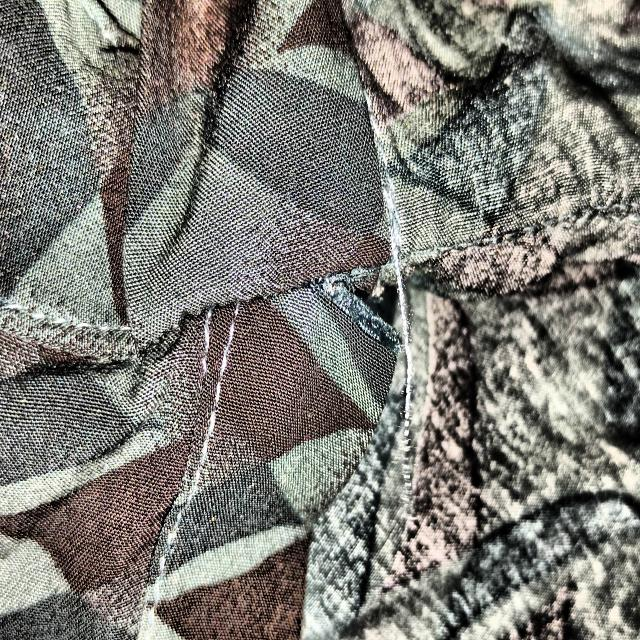Stitch: (308, 194, 454, 522)
